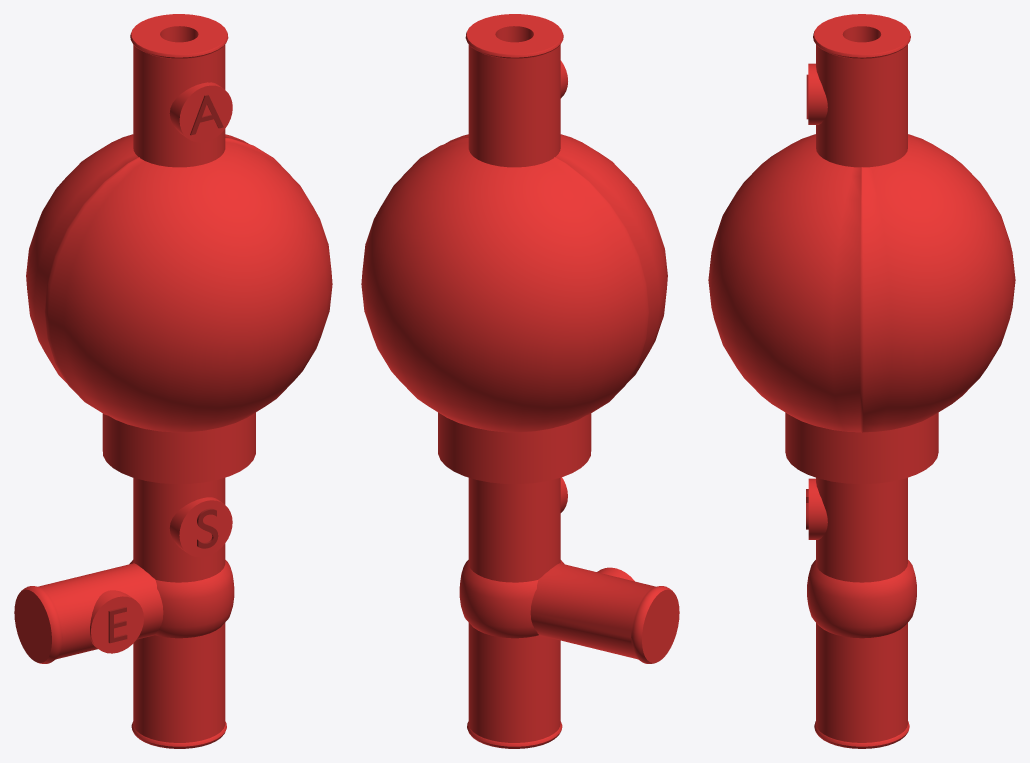
Rendered from BulbPipette.fbx.
3 views of the same model, side by side, from view 1: azimuth 30°, elevation 25°; view 2: azimuth 150°, elevation 25°; view 3: azimuth 270°, elevation 25° (orthographic).
Parts seen in each view (by area): view 1: BigBulb, BulbPipetteBase; view 2: BigBulb, BulbPipetteBase; view 3: BigBulb, BulbPipetteBase.
Part boxes in pixels (<box>): BigBulb: <box>26,134,332,432</box>; BulbPipetteBase: <box>14,14,255,748</box>; BigBulb: <box>361,134,667,432</box>; BulbPipetteBase: <box>438,14,679,748</box>; BigBulb: <box>708,134,1015,432</box>; BulbPipetteBase: <box>785,14,938,748</box>.
Size of the model in its own units: 5.26 by 12.49 by 5.
